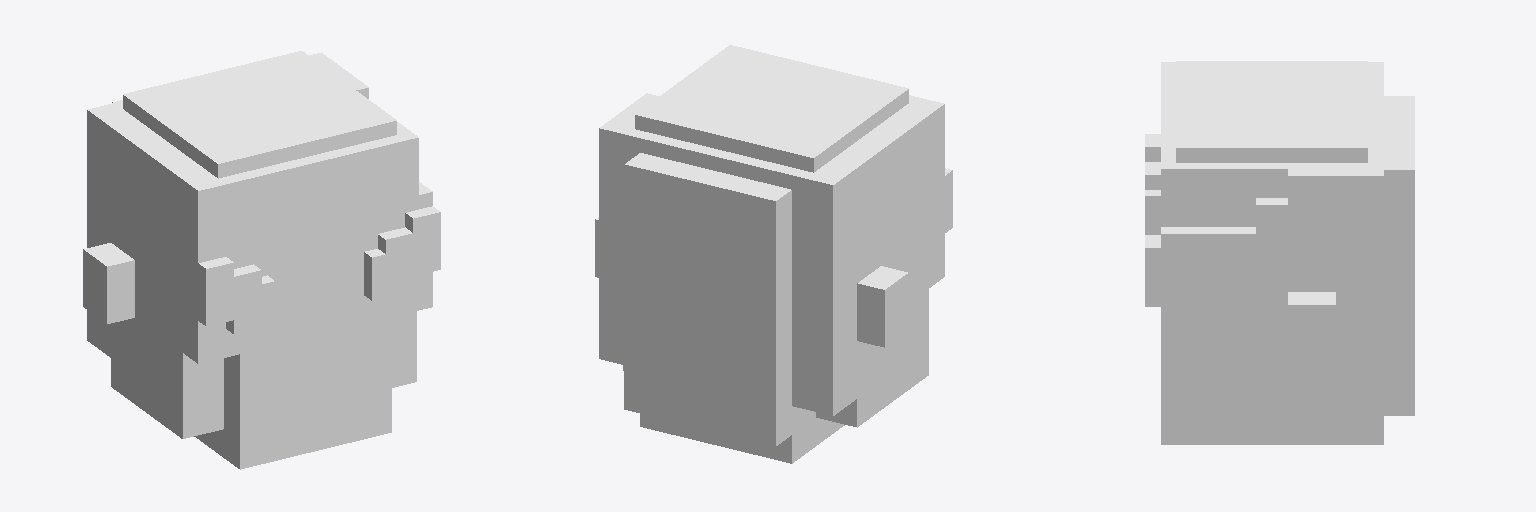
Rendered from Zeds-0-Zed_1-2.obj.
3 renders of one model, left to right at view 1: azimuth 30°, elevation 25°; view 2: azimuth 150°, elevation 25°; view 3: azimuth 270°, elevation 25°, orthographic.
Visible parts, largest first — view 1: object 1; view 2: object 1; view 3: object 1.
Part boxes in pixels (x1,y1,x2,y2): object 1: (83,51,440,469); object 1: (595,45,952,463); object 1: (1145,61,1414,444).
Bounding box in the file's own units: 2.1 × 2.1 × 1.7.